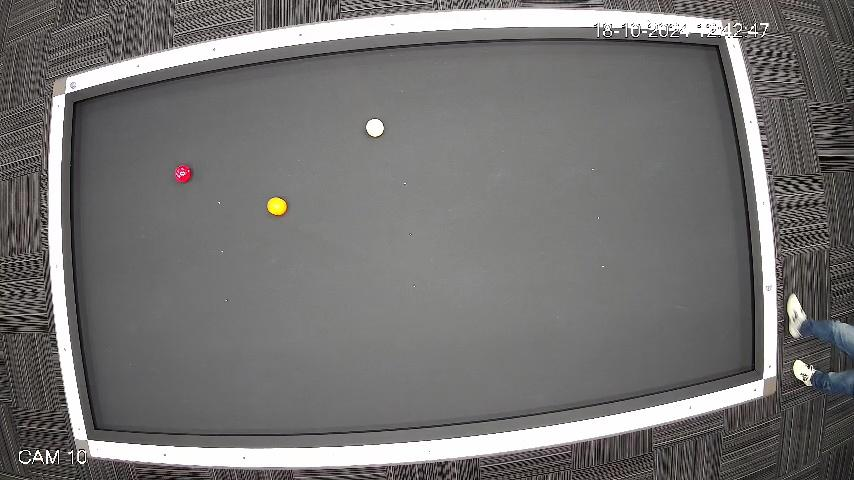Red: (172, 164, 193, 185)
White: (364, 118, 386, 139)
Yellow: (265, 197, 288, 218)
